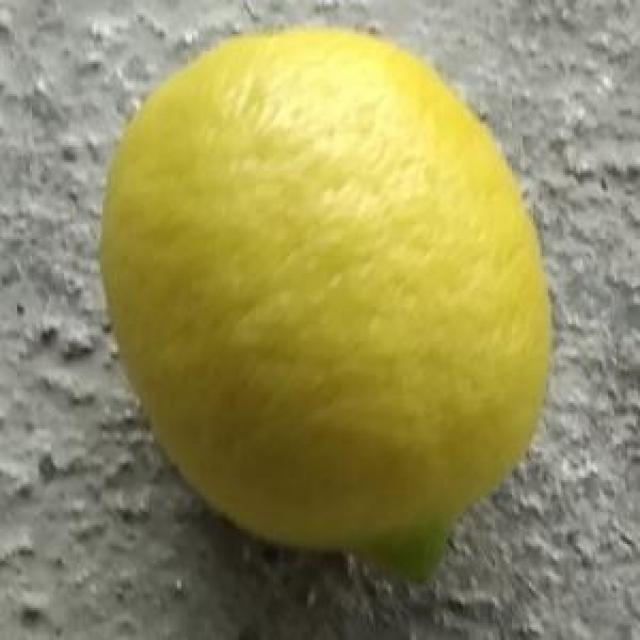lemon: (105, 26, 547, 583)
